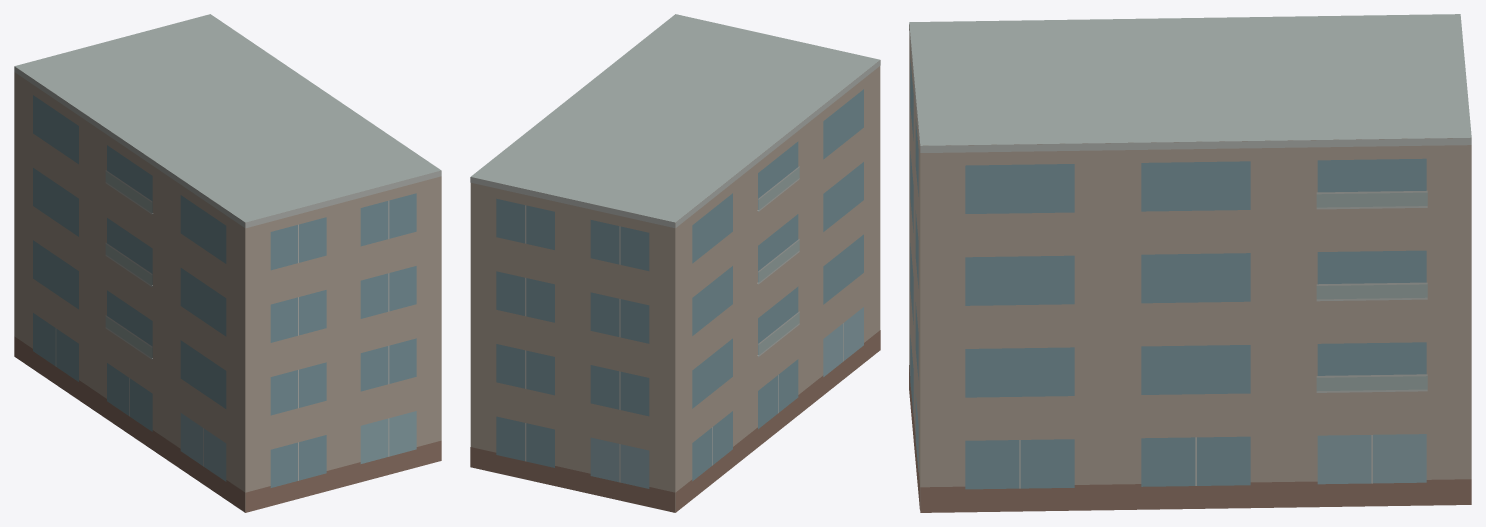
The model's file is survey-upis-32532721.glb.
3 renders of one model, left to right at view 1: azimuth 30°, elevation 25°; view 2: azimuth 150°, elevation 25°; view 3: azimuth 270°, elevation 25°, orthographic. The views are drawn at different scales.
Visible parts, largest first — view 1: survey-upis-32532721.tmp; view 2: survey-upis-32532721.tmp; view 3: survey-upis-32532721.tmp.
Boxes of the visible parts, x1,y1,x2,y2 form: survey-upis-32532721.tmp: (14, 14, 441, 512); survey-upis-32532721.tmp: (470, 14, 880, 512); survey-upis-32532721.tmp: (909, 14, 1471, 512).
Bounding box in the file's own units: 9.42 × 12.22 × 16.99.
